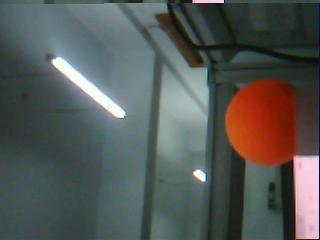oball: (225, 78, 299, 166)
